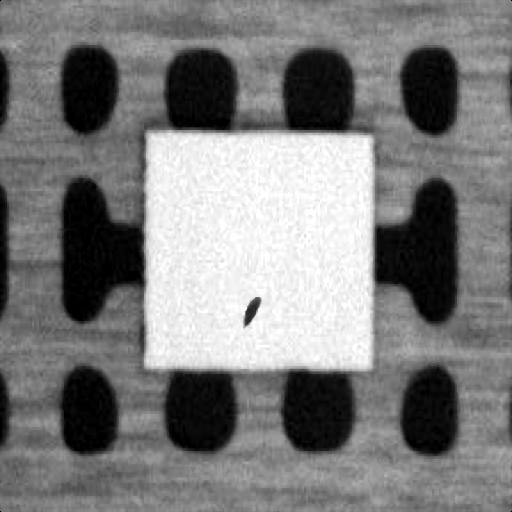DIE_INK: (355, 192, 390, 220)
